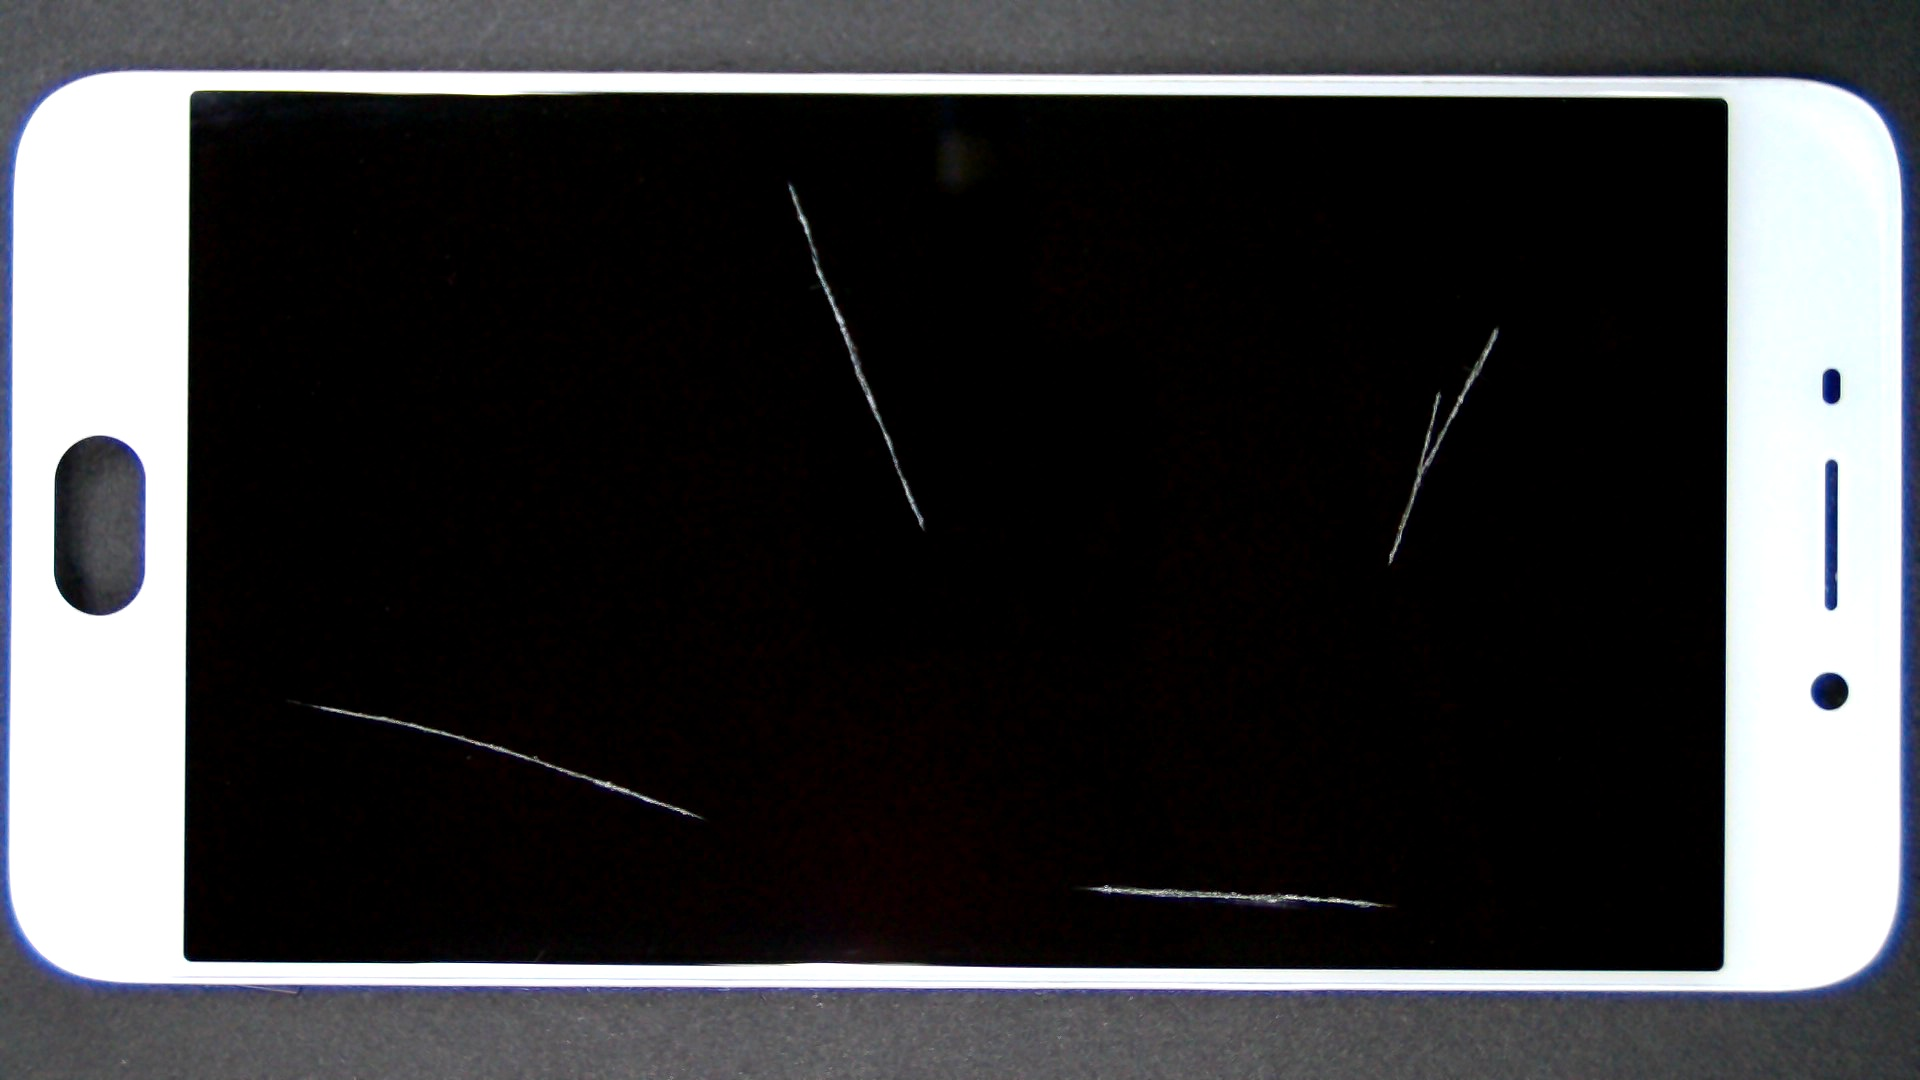oil: (554, 442, 1659, 1080), (748, 164, 1920, 491), (144, 349, 433, 1048), (394, 90, 1182, 272)
